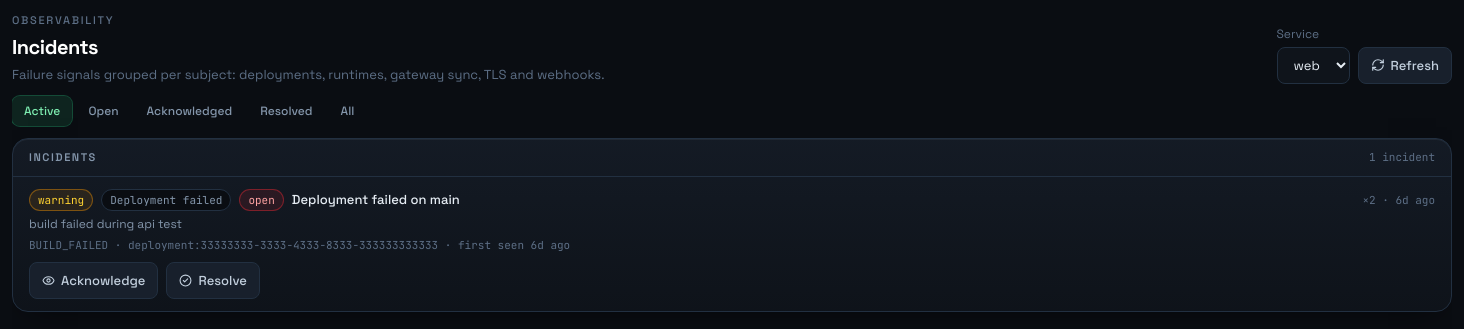
it: IncidentsView › a 409 conflict refreshes the list instead of erroring
What coordinates should you click on to do the following:
click the button with aria-label "Resolve incident"
I would click on:
 (213, 280)
Its box is [166, 262, 260, 299].
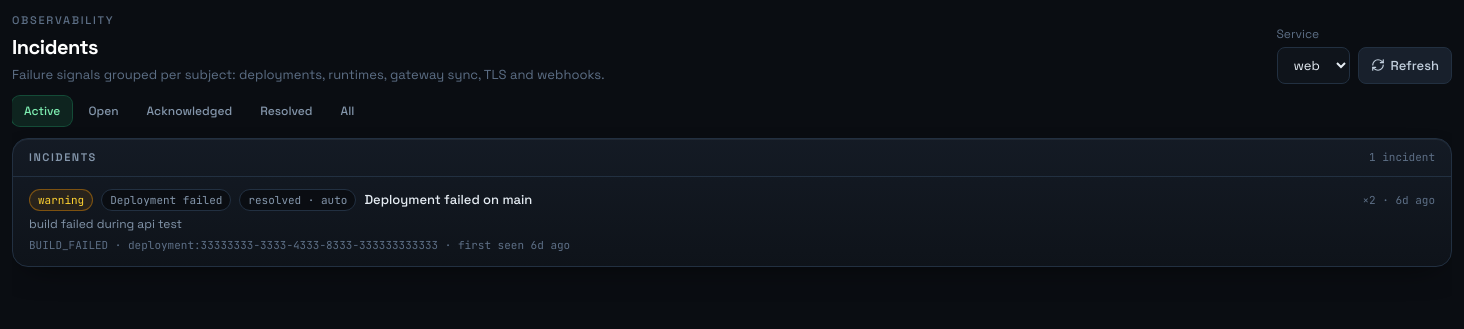
Check: the text "resolved · auto" is shown, box [239, 188, 356, 211]
